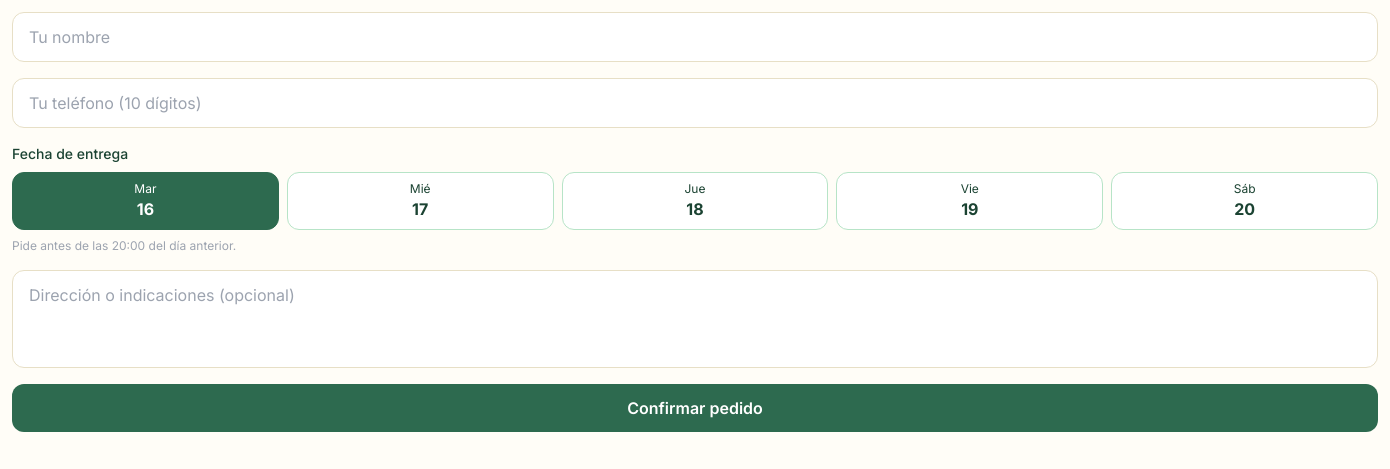
Test case: CheckoutForm › shows error when name is empty
The width and height of the screenshot is (1390, 469).
Step 1. Type "5512345678" into the field with placeholder "Tu teléfono (10 dígitos)" → (695, 103), box [12,78,1378,128]
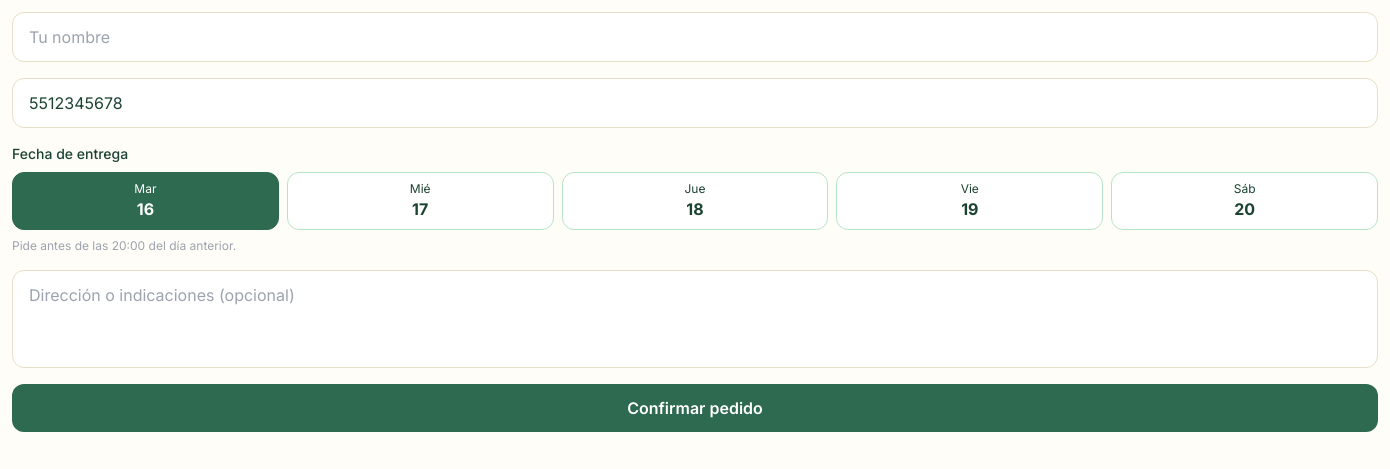
Step 2. Click the button "Confirmar pedido" → (695, 408), box [12,384,1378,432]
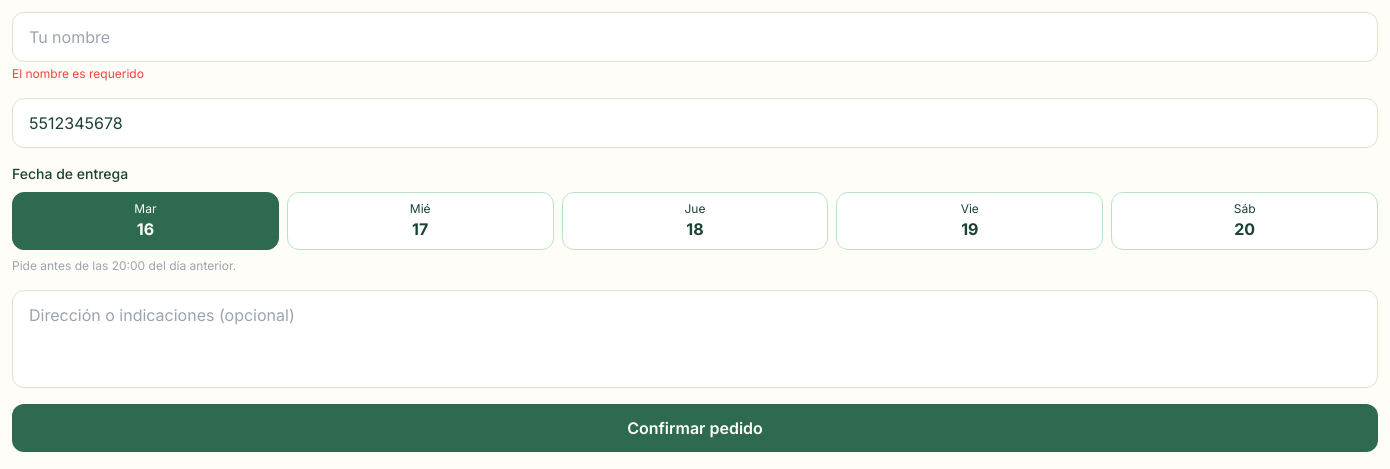
Check: the text "El nombre es requerido" is shown, box [12,66,144,81]
